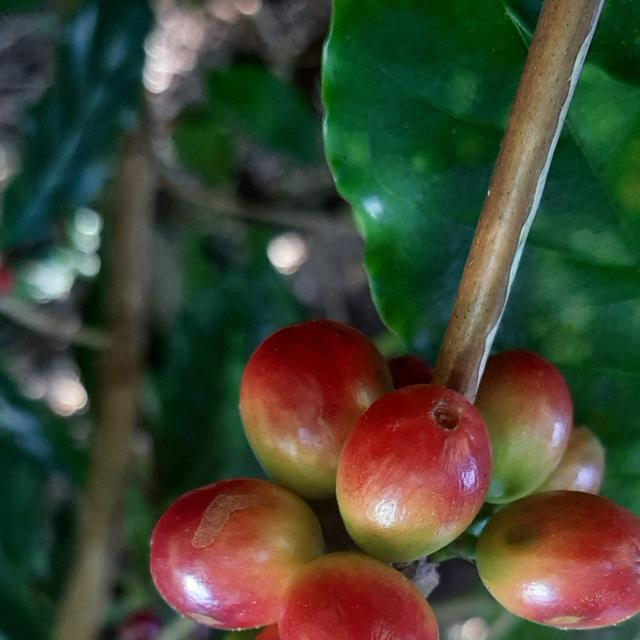yellow: (337, 384, 493, 563), (240, 319, 394, 500), (150, 479, 324, 631), (477, 491, 640, 631), (476, 350, 575, 504), (278, 553, 439, 640), (536, 427, 606, 495)
